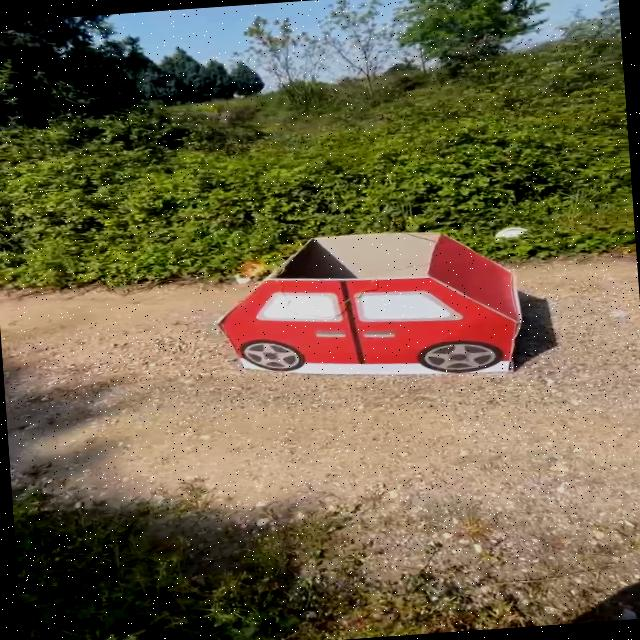red_car: (192, 214, 566, 401)
